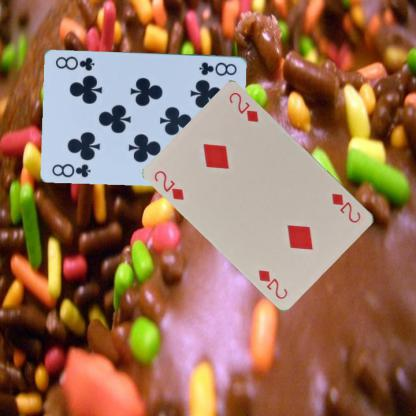2d: (152, 167, 186, 202), (330, 190, 362, 224)
8c: (196, 59, 238, 77), (50, 160, 92, 178)
